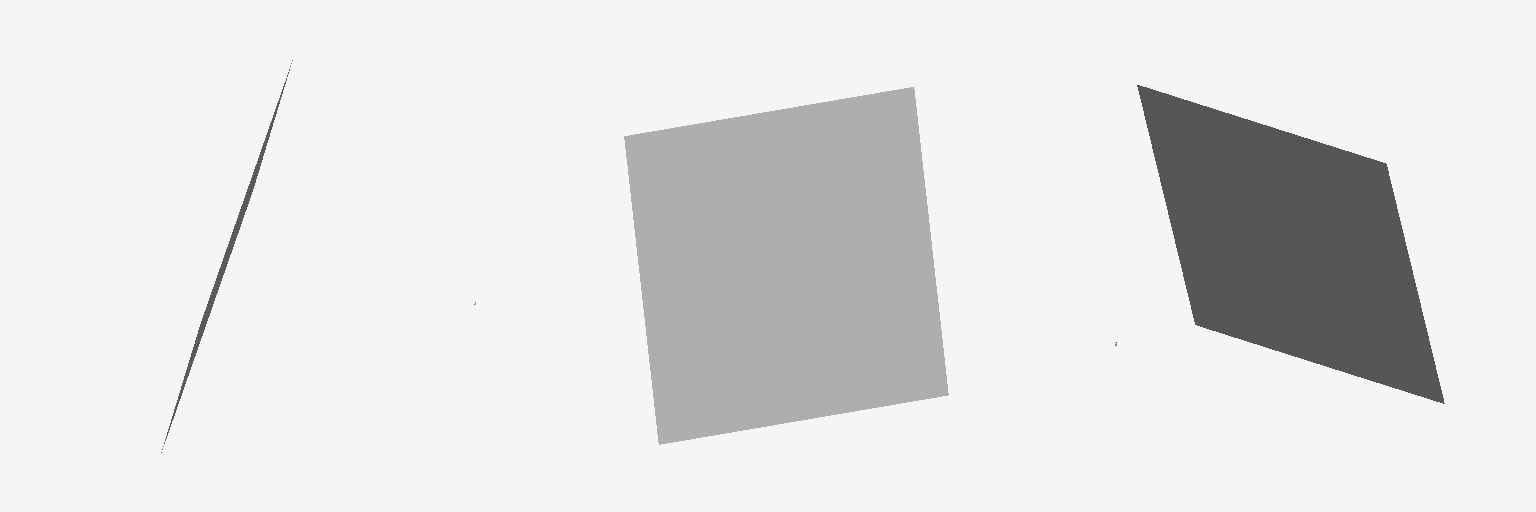
Rendered from Chesspiece.obj.
3 renders of one model, left to right at view 1: azimuth 30°, elevation 25°; view 2: azimuth 150°, elevation 25°; view 3: azimuth 270°, elevation 25°, orthographic.
Parts seen in each view (by area): view 1: Light_Plane.005; view 2: Light_Plane.005; view 3: Light_Plane.005.
Boxes of the visible parts, <box> form: Light_Plane.005: <box>161,60,292,452</box>; Light_Plane.005: <box>624,87,948,444</box>; Light_Plane.005: <box>1137,85,1444,403</box>.
Bounding box in the file's own units: 192 × 181 × 198.